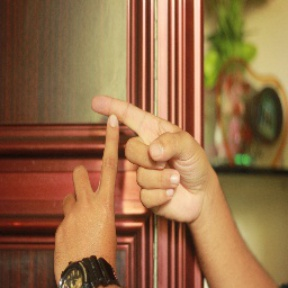T: (66, 83, 170, 214)
